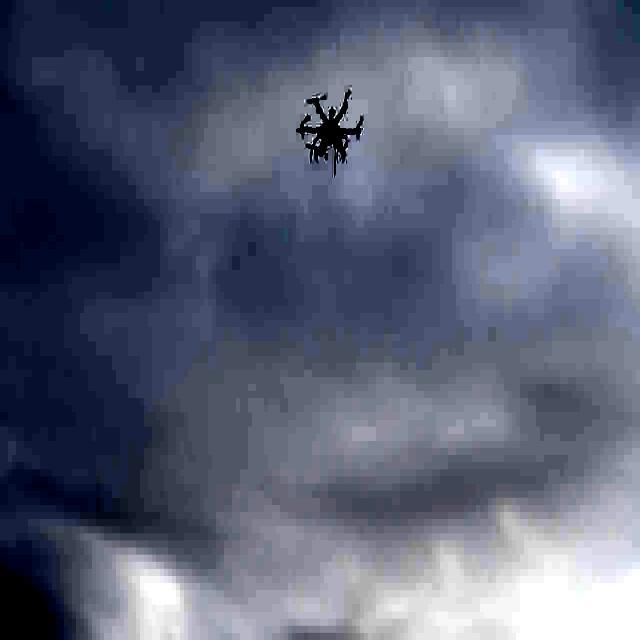drone: (296, 84, 364, 164)
